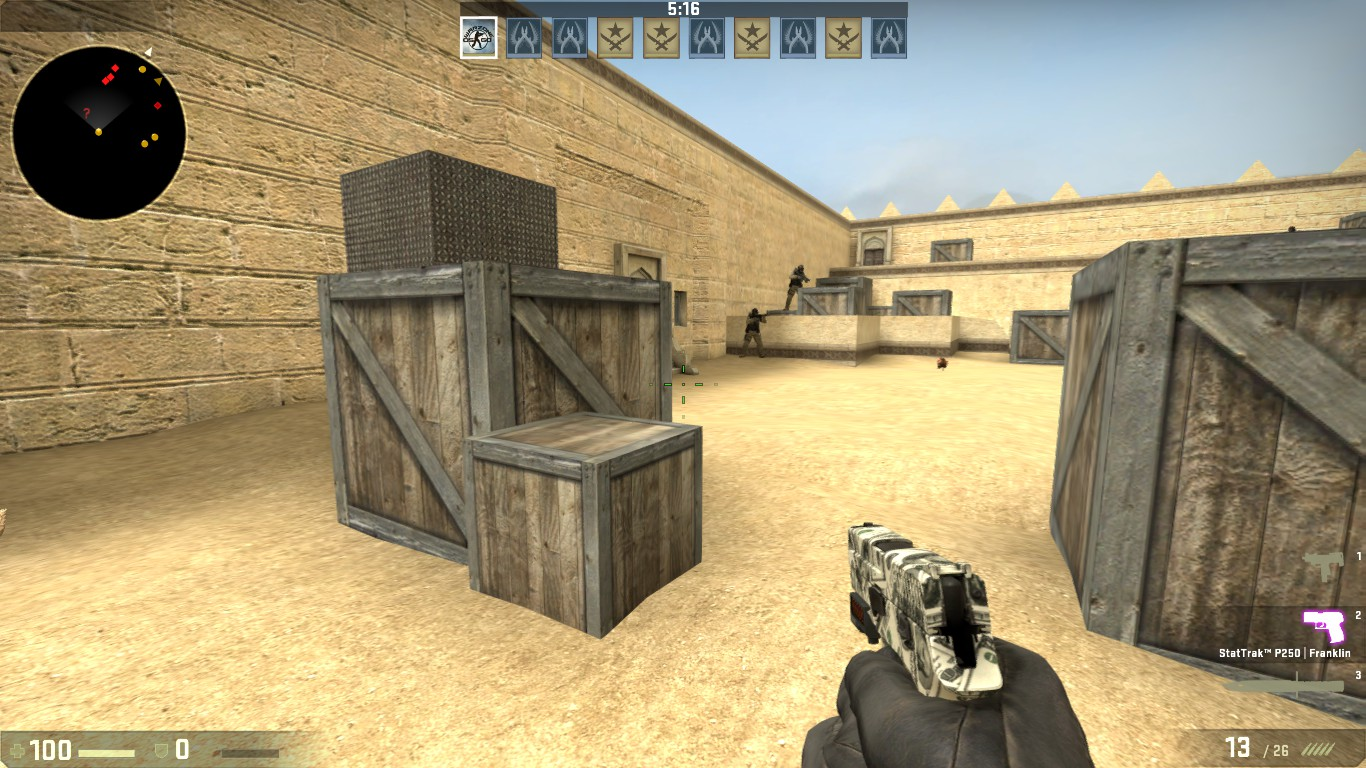c: (739, 307, 763, 357), (783, 264, 806, 311)
ch: (750, 307, 761, 317), (797, 264, 805, 273)
